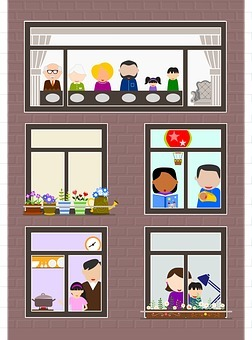person: (79, 256, 104, 313), (162, 265, 193, 307), (151, 166, 180, 209), (193, 164, 221, 207), (88, 59, 115, 90), (38, 59, 62, 92), (118, 58, 140, 90), (66, 63, 89, 92), (68, 280, 89, 310), (187, 281, 205, 311), (166, 64, 180, 90), (145, 74, 162, 89)
pottedplant: (87, 184, 114, 216), (20, 188, 43, 214), (55, 187, 73, 216), (70, 192, 89, 217), (41, 194, 58, 216)
